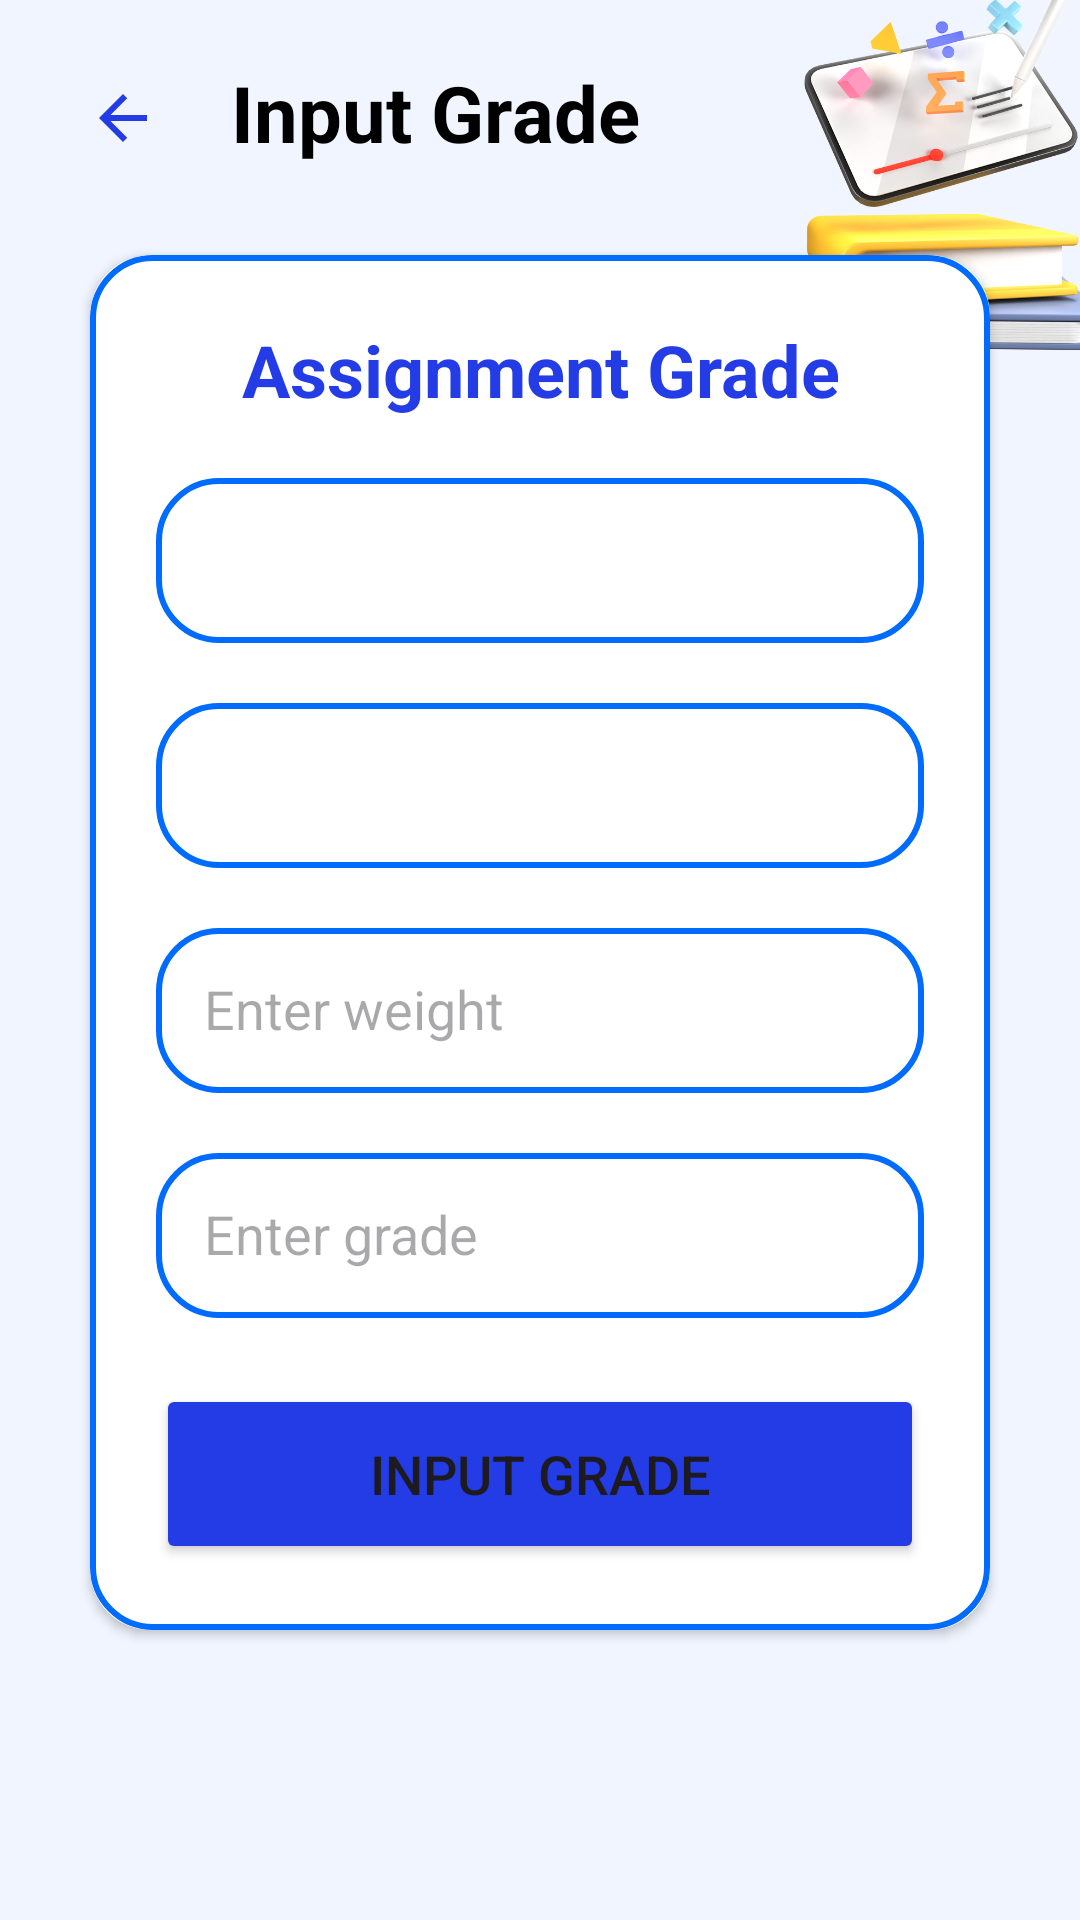

Screen size 1080×1920. Icon name, then its center in pixels as point (x, y):
arrow back: point (123, 118)
